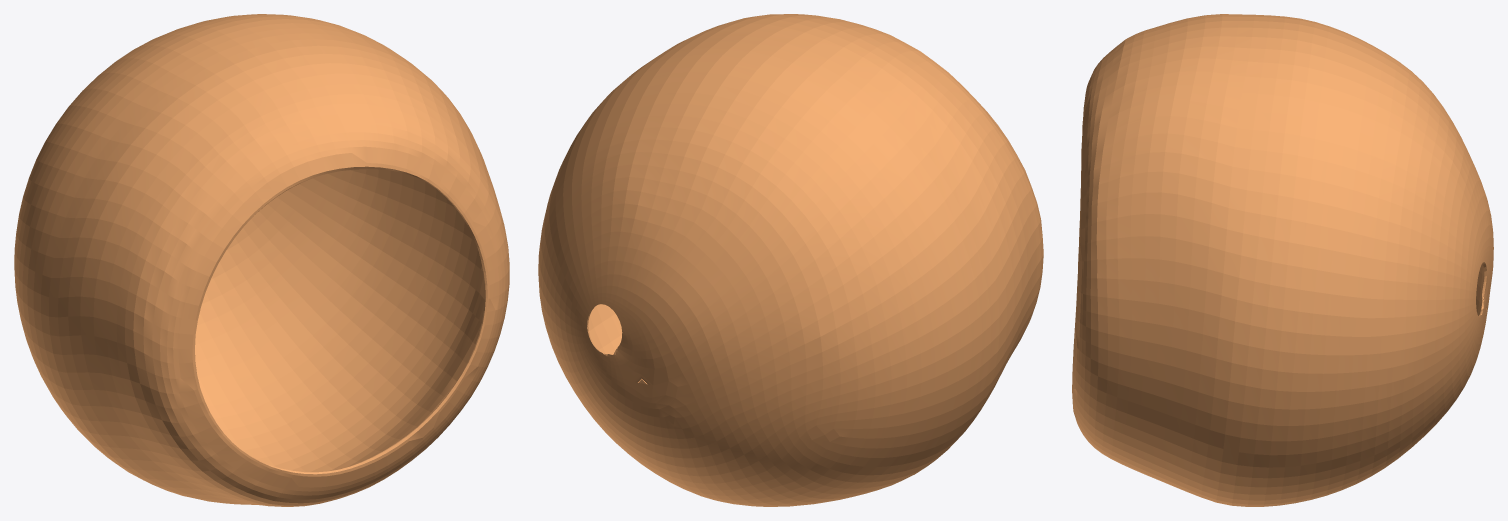
The model's file is frau2-33.glb.
3 views of the same model, side by side, from view 1: azimuth 30°, elevation 25°; view 2: azimuth 150°, elevation 25°; view 3: azimuth 270°, elevation 25° (orthographic).
Parts seen in each view (by area): view 1: VH_F_optic_choroid_R; view 2: VH_F_optic_choroid_R; view 3: VH_F_optic_choroid_R.
Boxes of the visible parts, x1,y1,x2,y2 form: VH_F_optic_choroid_R: [14, 14, 509, 506]; VH_F_optic_choroid_R: [538, 14, 1043, 506]; VH_F_optic_choroid_R: [1072, 14, 1493, 506].
Bounding box in the file's own units: 0.0224 × 0.0223 × 0.0191.
